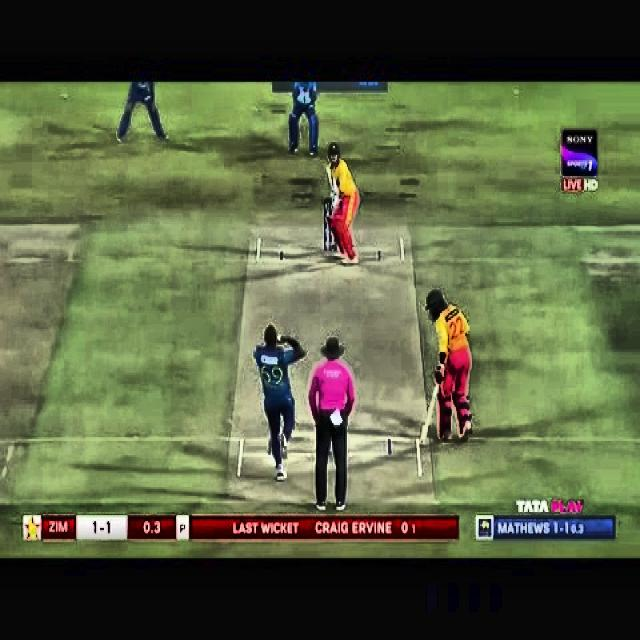Left-stump: (324, 201, 326, 251)
Middle-stump: (329, 225, 332, 251)
Right-stump: (334, 234, 337, 251)
